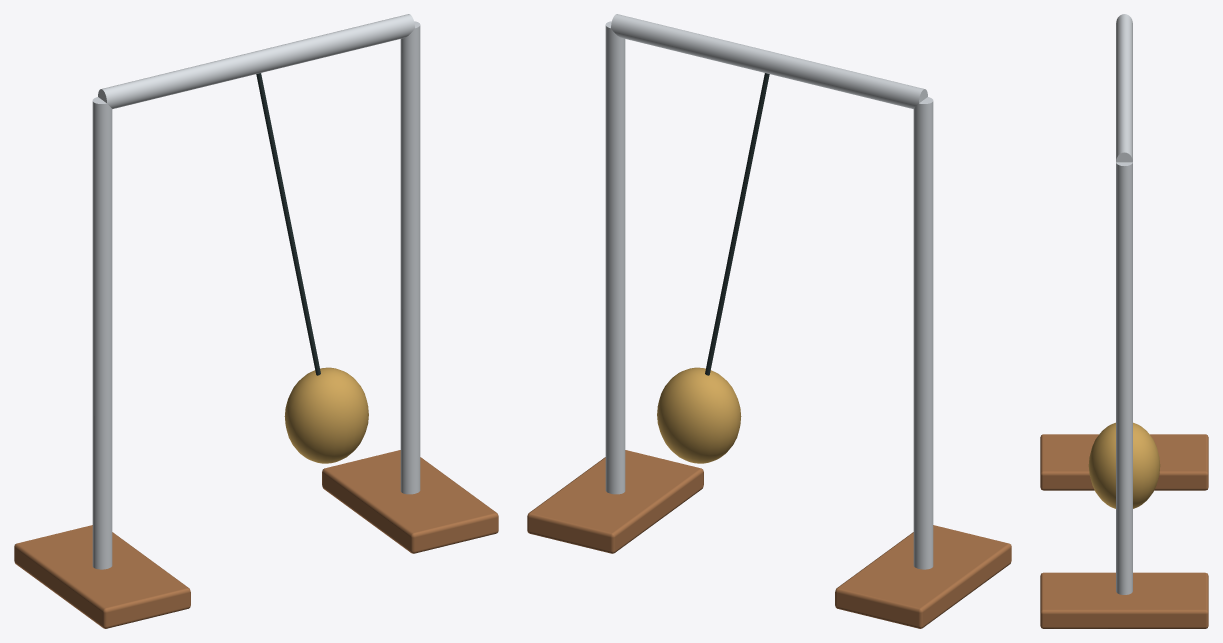
The model's file is wp-pendule-de-demonstration.glb.
3 views of the same model, side by side, from view 1: azimuth 30°, elevation 25°; view 2: azimuth 150°, elevation 25°; view 3: azimuth 270°, elevation 25° (orthographic). The views are drawn at different scales.
Parts seen in each view (by area): view 1: wp-pendule-de-demonstration; view 2: wp-pendule-de-demonstration; view 3: wp-pendule-de-demonstration.
Part boxes in pixels (x1,y1,x2,y2): wp-pendule-de-demonstration: [14, 14, 498, 628]; wp-pendule-de-demonstration: [527, 14, 1011, 628]; wp-pendule-de-demonstration: [1040, 14, 1208, 628].
Bounding box in the file's own units: 0.5 × 0.6 × 0.2.
